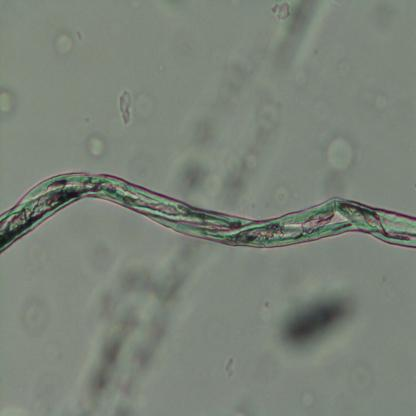Background material: (170, 0, 330, 209), (67, 239, 212, 414), (276, 275, 366, 365), (322, 131, 356, 173), (22, 300, 48, 337), (83, 132, 110, 159), (115, 86, 133, 126), (52, 31, 77, 58), (0, 88, 18, 119), (374, 93, 394, 119), (299, 385, 318, 408), (222, 356, 235, 381)
Cotton: (0, 169, 416, 256)
